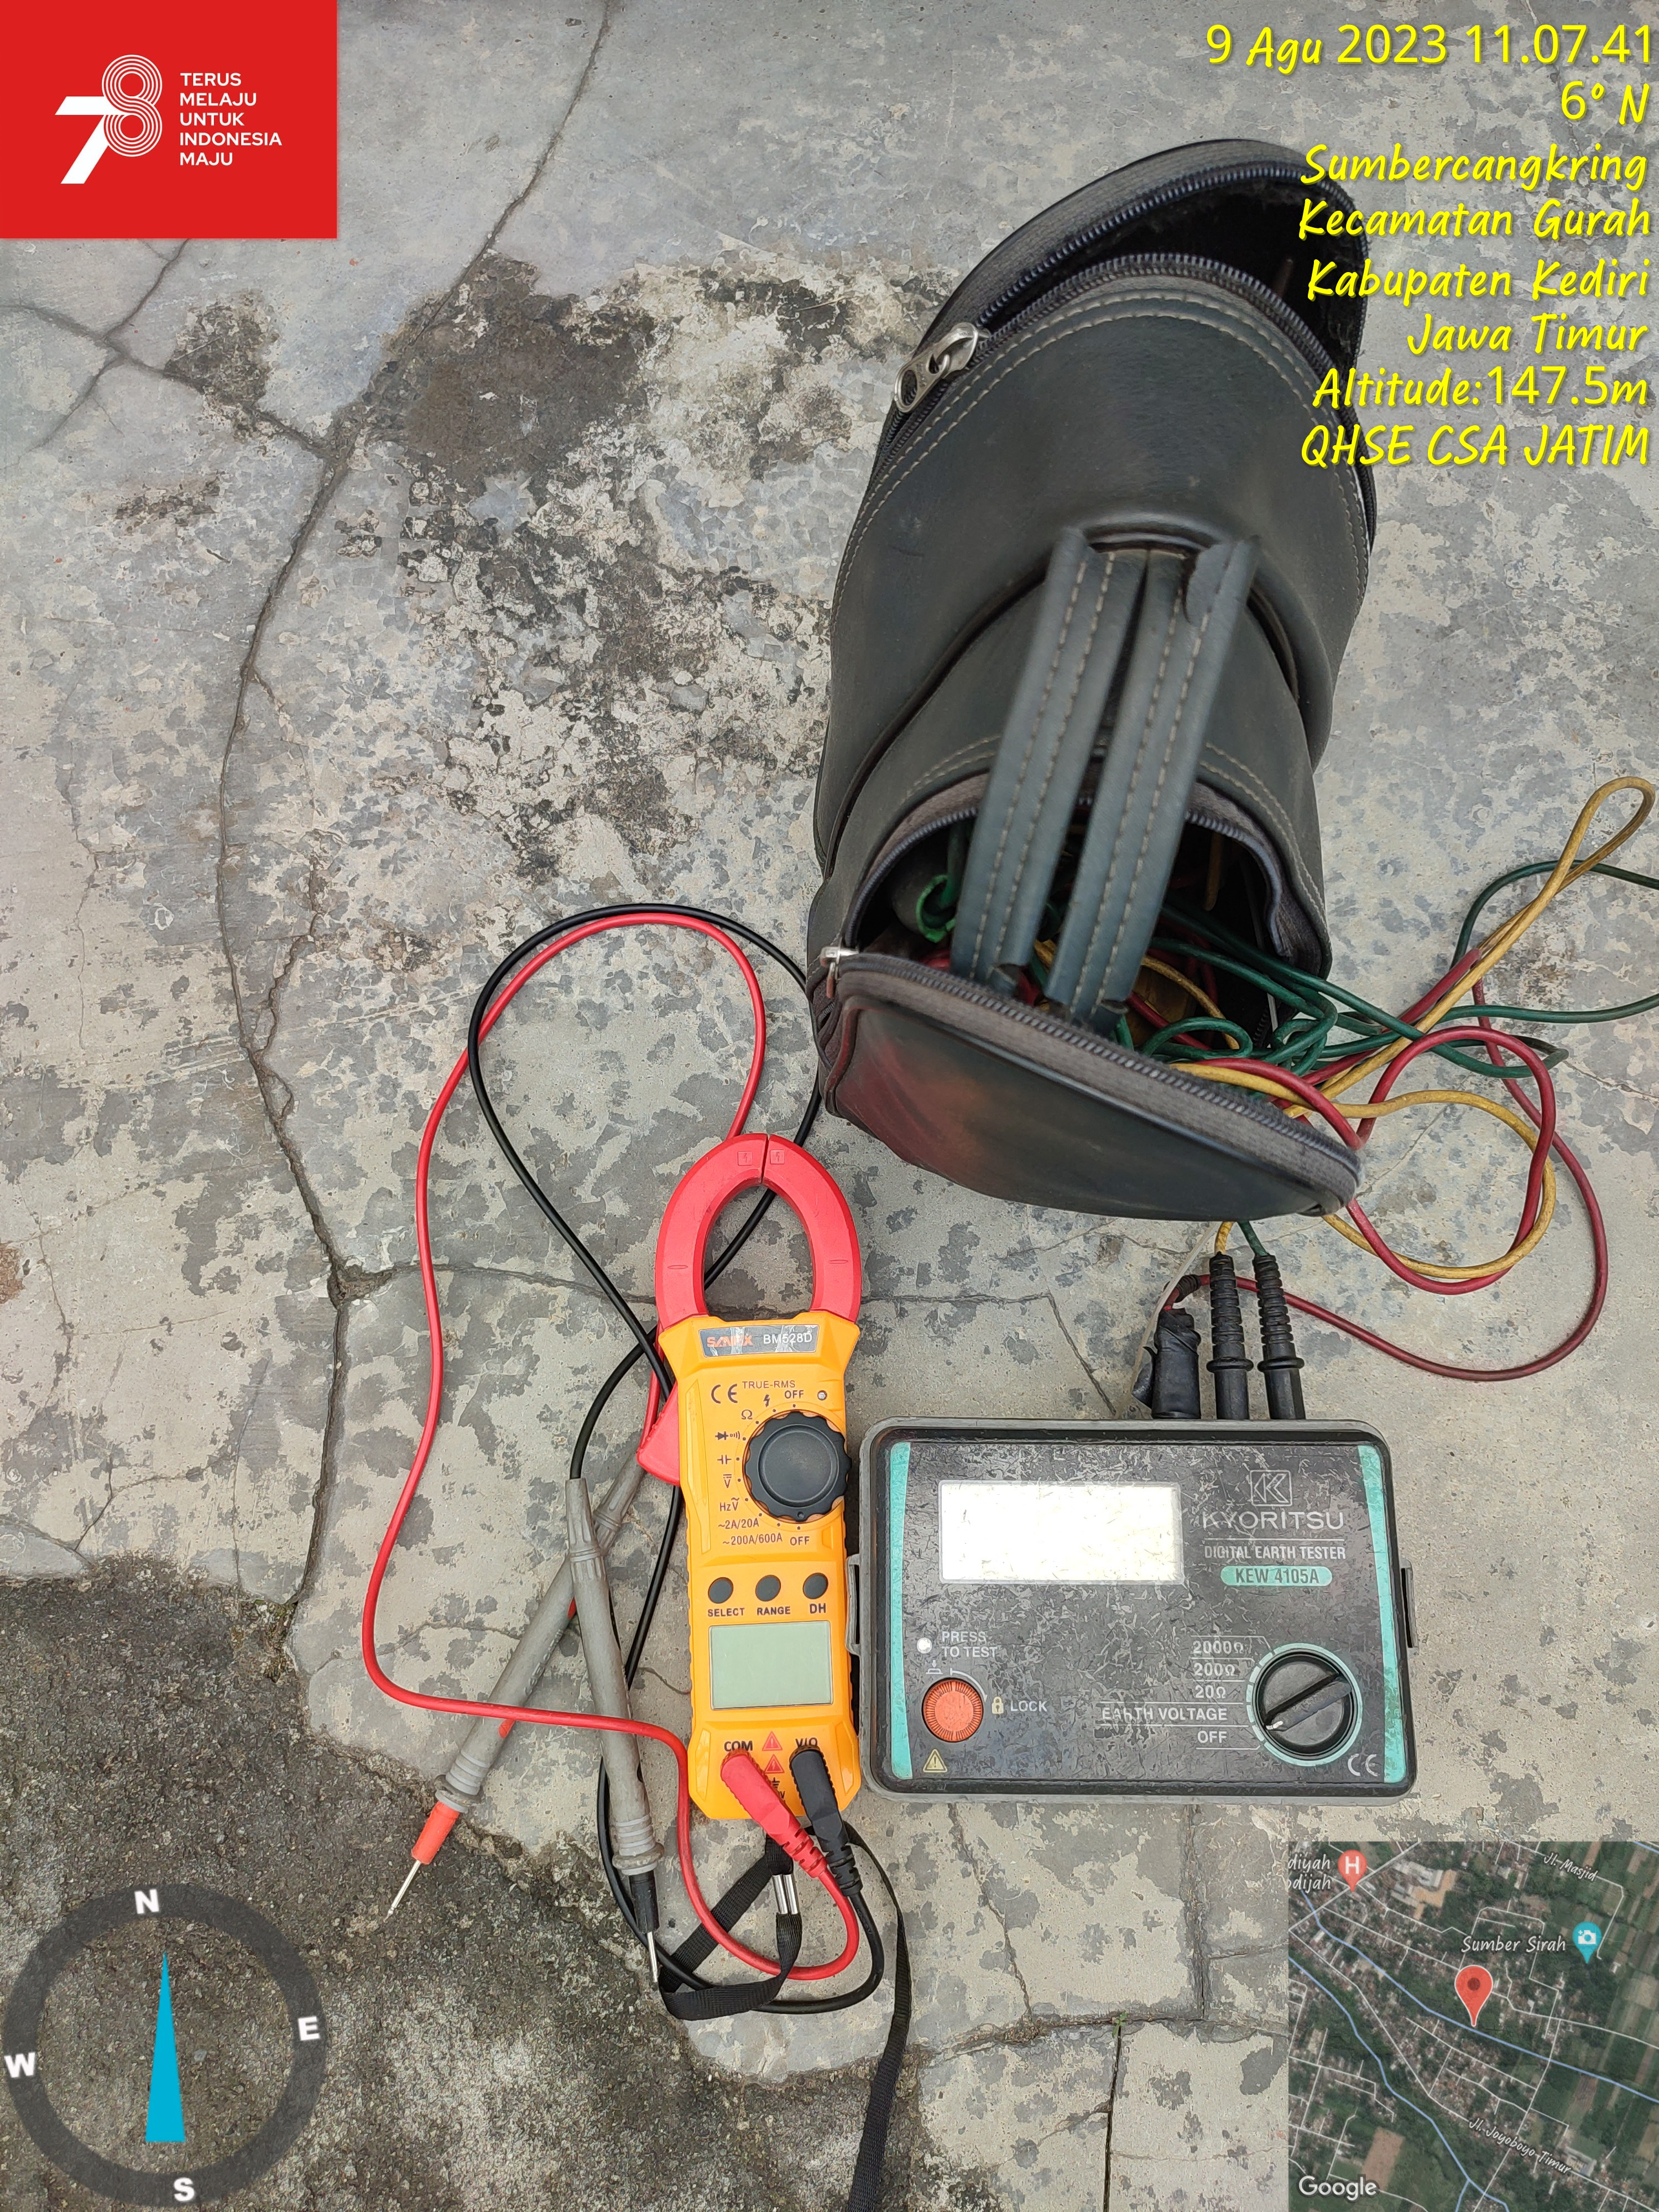EARTH_GROUNDING_TESTER: (856, 1388, 1424, 1810)
TANG_AMPERE: (636, 1132, 859, 1825)
